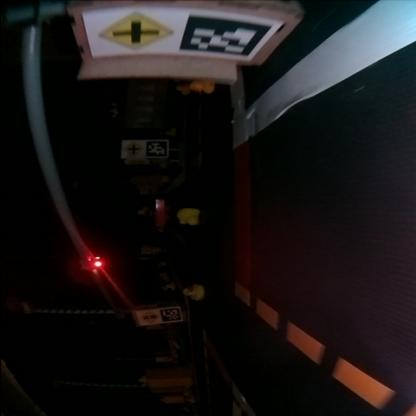Duckie: (176, 208, 198, 226), (182, 284, 206, 300), (191, 80, 215, 95)
Intersection sign: (94, 11, 172, 54), (120, 143, 142, 159)
QR code: (180, 13, 270, 59), (160, 308, 178, 323), (145, 145, 167, 157)
Signal sign: (136, 311, 156, 327)
Traffic light: (82, 258, 104, 270)
